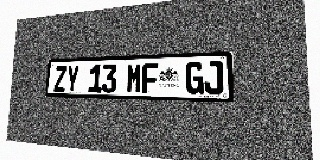1: (88, 65, 103, 93)
3: (102, 64, 117, 93)
F: (142, 63, 158, 94)
G: (186, 61, 204, 94)
J: (204, 61, 223, 95)
M: (126, 63, 142, 93)
Y: (66, 65, 79, 92)
Z: (54, 66, 67, 92)
